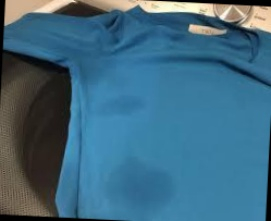oil: (102, 161, 176, 212), (89, 83, 145, 129)
